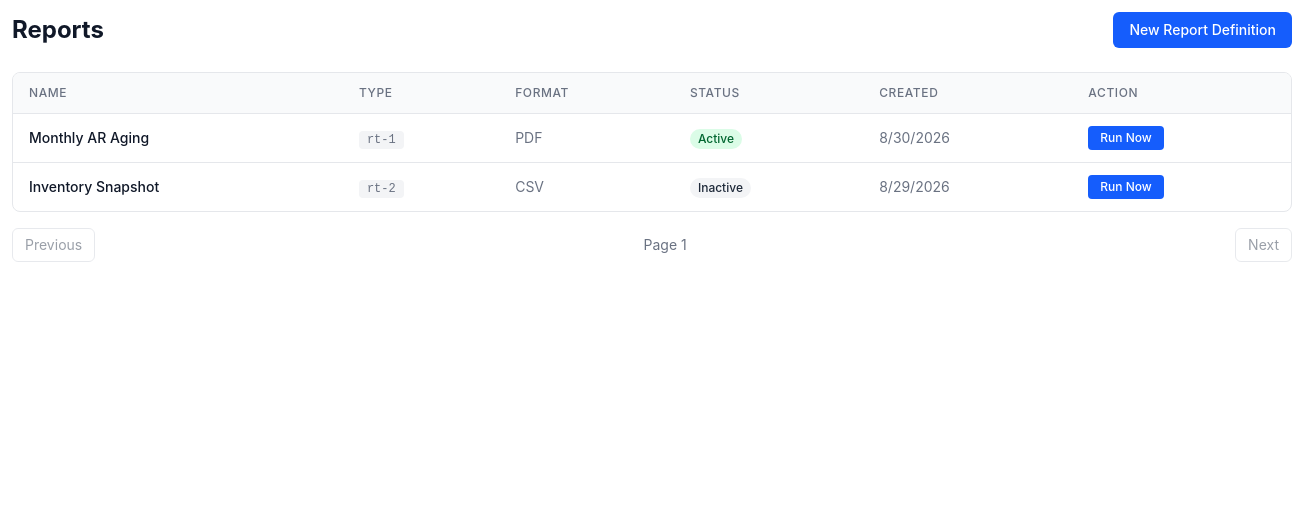
Test: ReportListPage › shows create form when New Report Definition is clicked
Click the button "New Report Definition": (1203, 30) [1113, 12, 1292, 48]
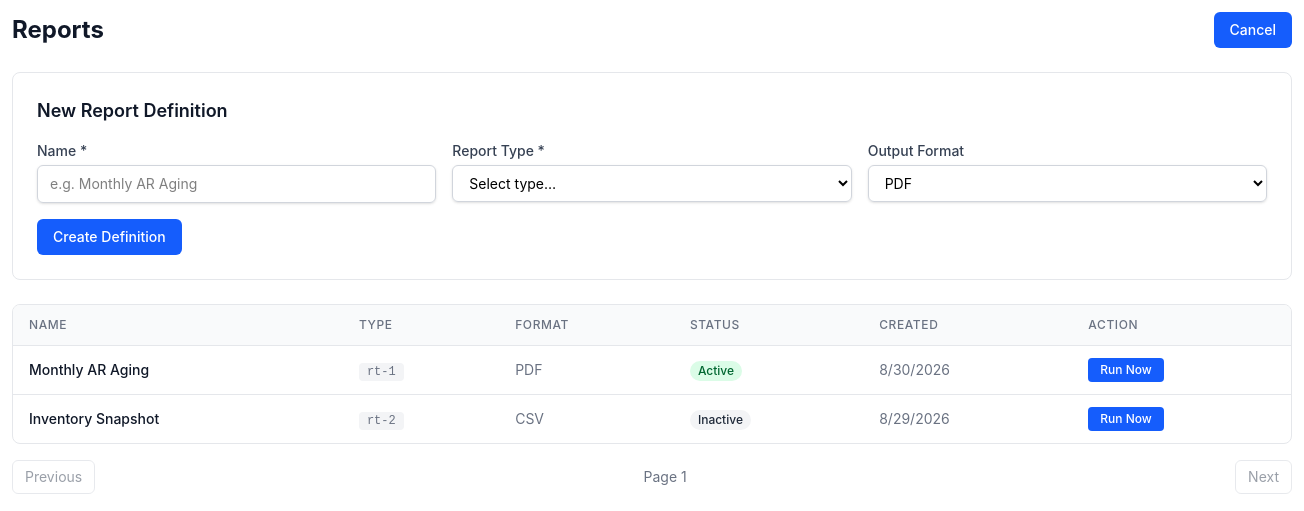
expect the heading "New Report Definition" is shown: met, box [37, 100, 228, 121]
expect the text "Name *" is shown: met, box [37, 142, 87, 159]
expect the text "Report Type *" is shown: met, box [452, 142, 545, 159]
